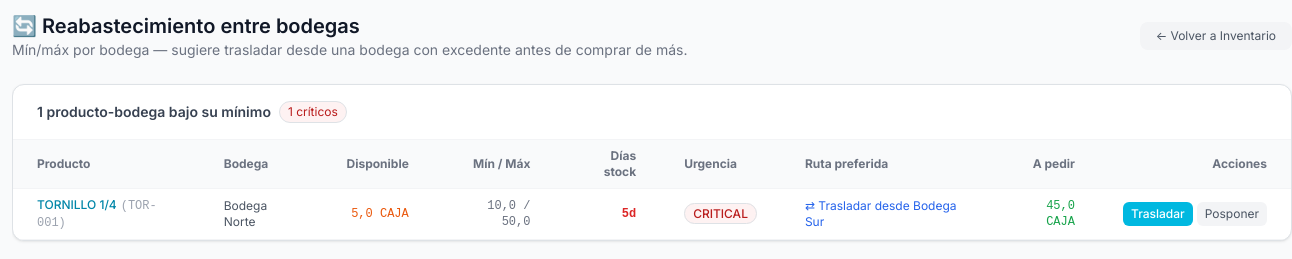
Test: ReplenishmentPage › ejecuta el traslado sugerido y recarga la lista
This screenshot has width=1292, height=259.
Click the button "Trasladar": (1158, 214) [1123, 202, 1193, 226]
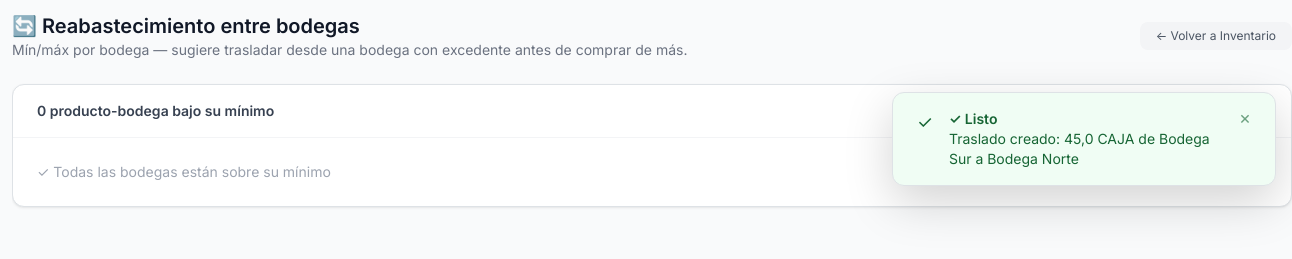
Check: the text "✓ Todas las bodegas están sobre su mínimo" is shown, box [37, 163, 331, 180]
